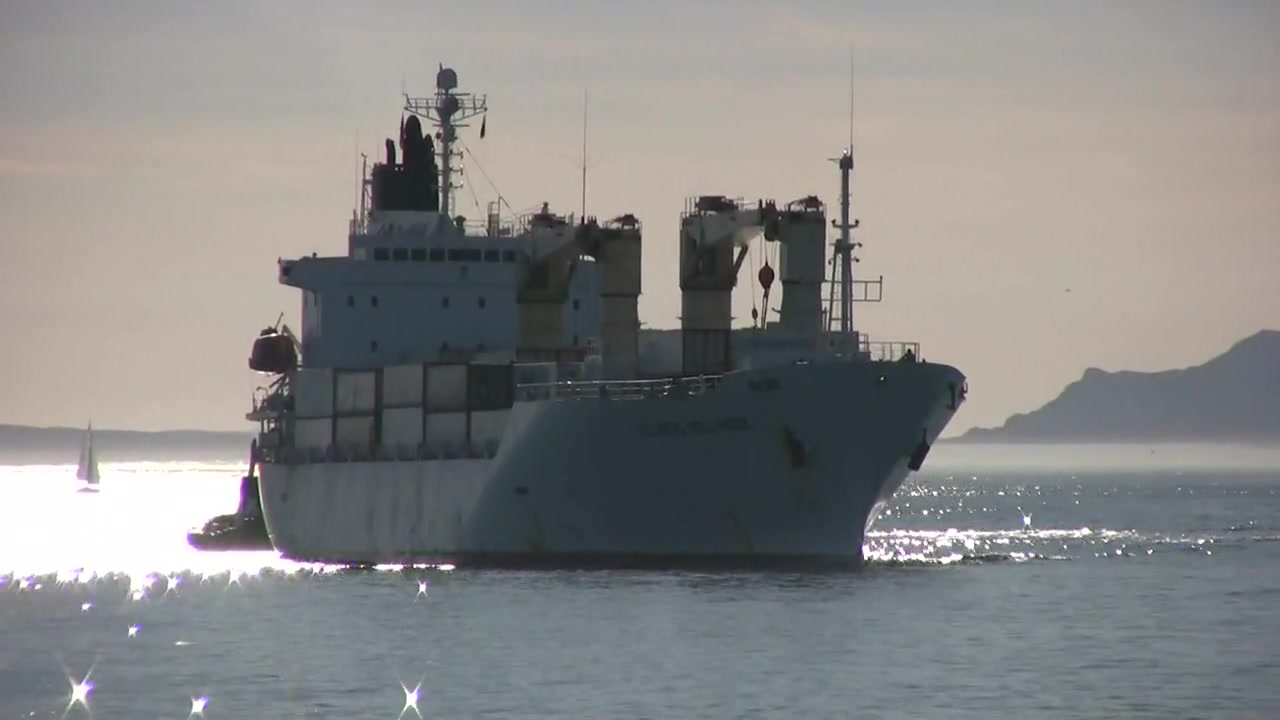boat: (249, 62, 974, 576), (187, 435, 282, 558), (69, 424, 107, 494)
